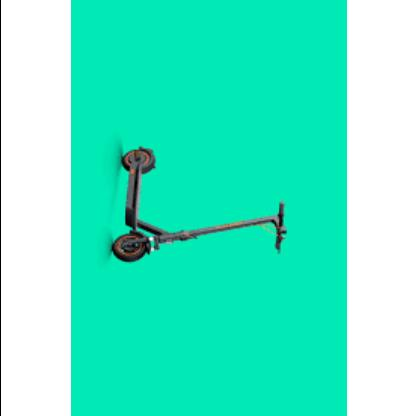bike: (111, 146, 287, 262)
